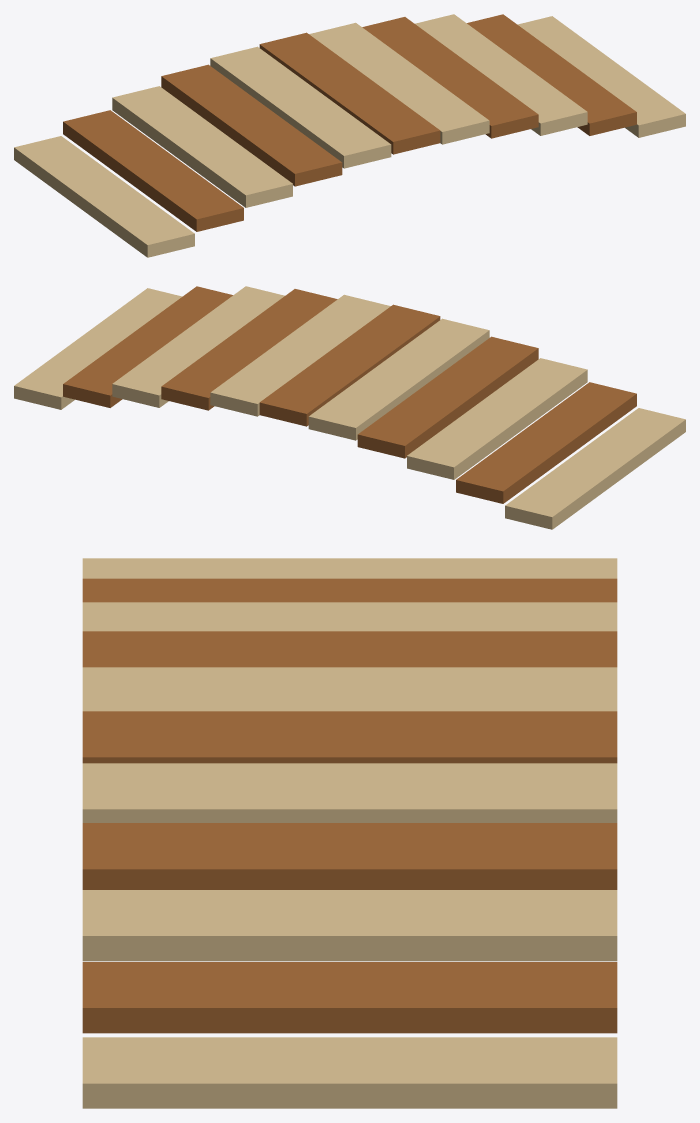
The picture shows the model from 3 angles, top to bottom: view 1: azimuth 30°, elevation 25°; view 2: azimuth 150°, elevation 25°; view 3: azimuth 270°, elevation 25°; orthographic projection. The views are drawn at different scales.
Visible parts, largest first — view 1: 人行拱桥独立木板.001; view 2: 人行拱桥独立木板.001; view 3: 人行拱桥独立木板.001.
Boxes of the visible parts, x1,y1,x2,y2 form: 人行拱桥独立木板.001: (14,14,685,257); 人行拱桥独立木板.001: (14,286,685,529); 人行拱桥独立木板.001: (82,558,617,1108).
Size of the model in its own units: 1.12 by 0.1108 by 0.48.
